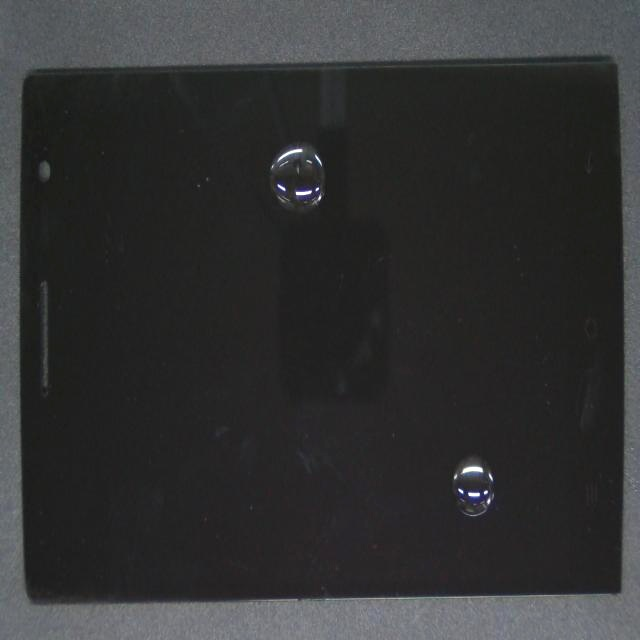oil: (261, 232, 640, 640), (186, 103, 483, 237)
